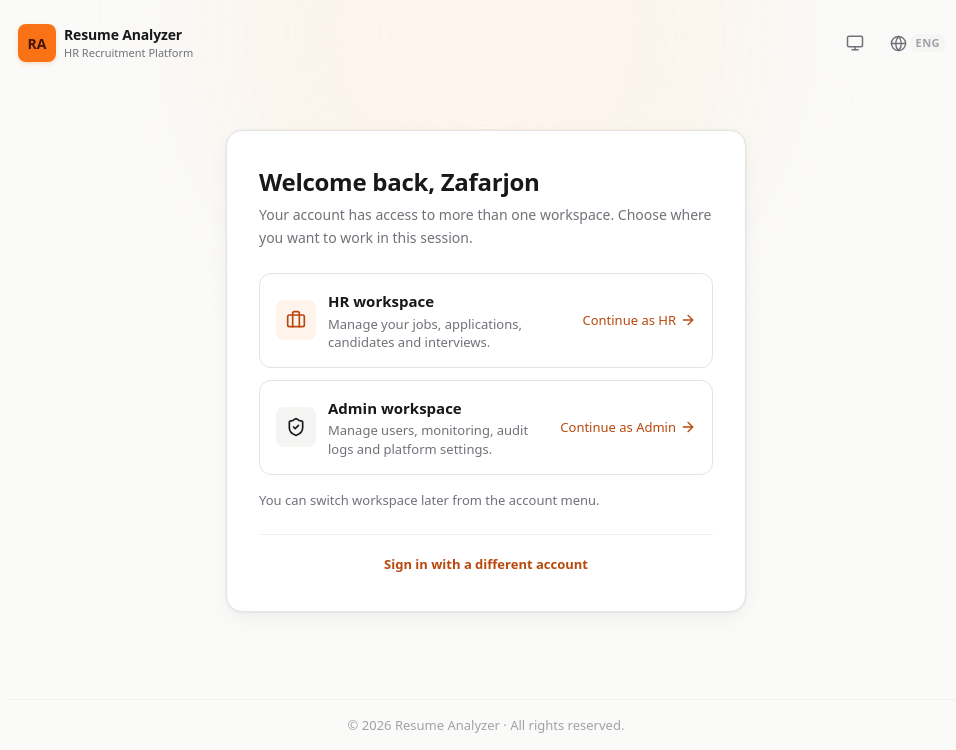
Test: RoleSelectPage › explains when the workspace is not available
This screenshot has width=956, height=750.
Click the button named "Continue as Admin". click: (486, 427)
box: [259, 380, 713, 475]
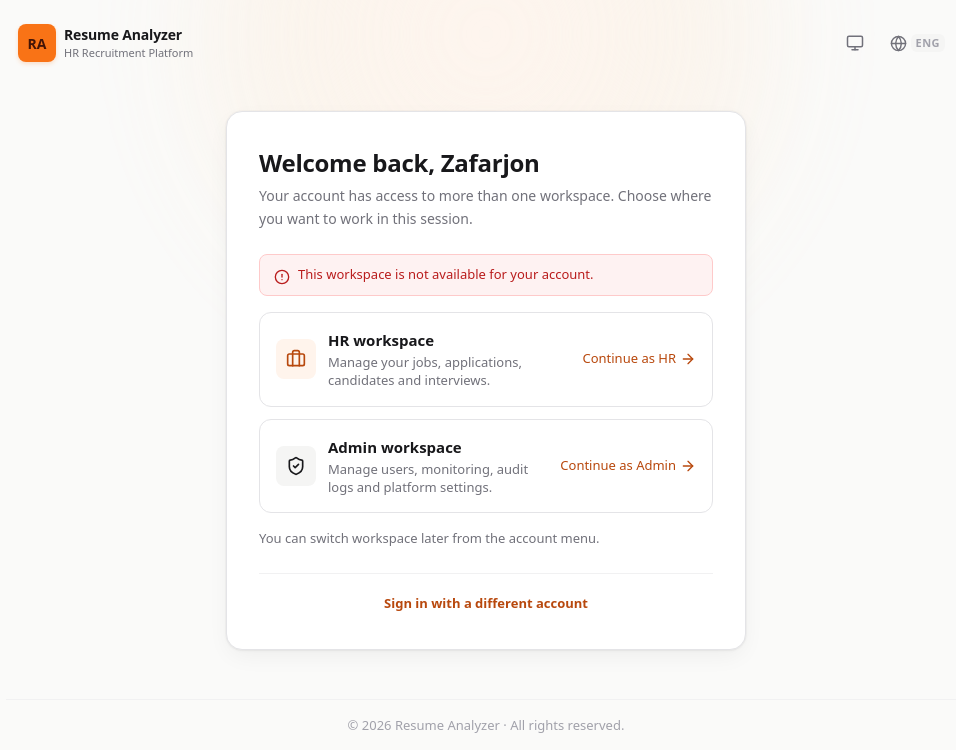
Now the text "This workspace is not available for your account." is shown, box [298, 265, 594, 283]
